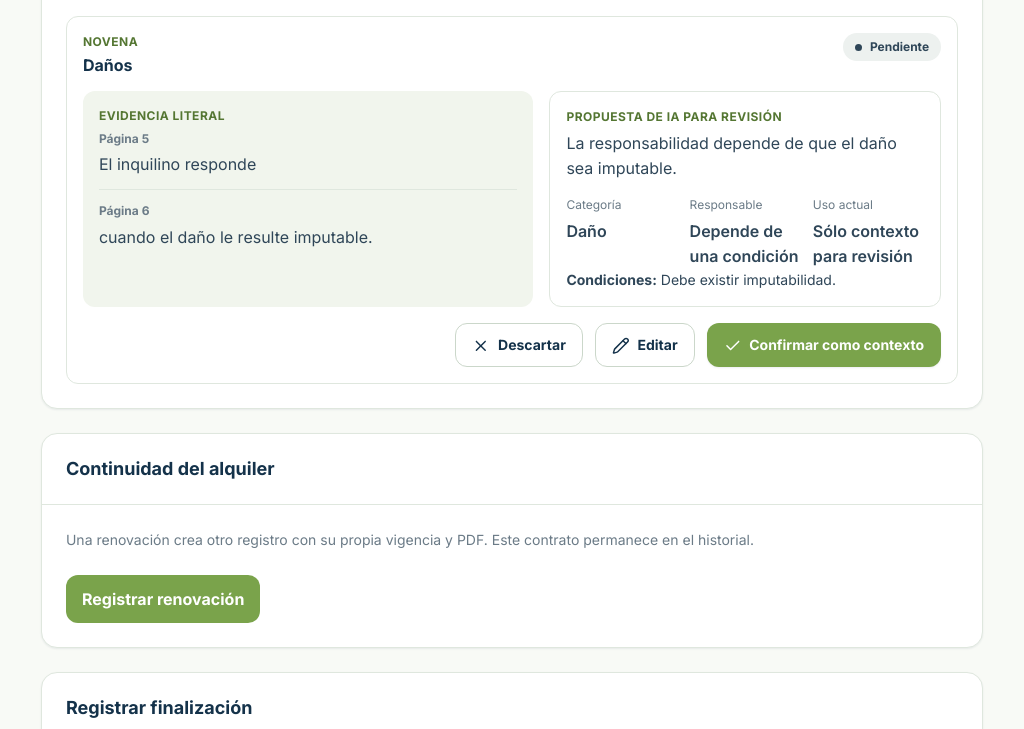
it: consulta y gestión de contratos › confirma una propuesta sólo como contexto, incluso si una versión anterior la marcó operativa
This screenshot has width=1024, height=729.
(page scrolled)
Click the button "Confirmar como contexto".
click(824, 345)  # box [707,323,941,367]
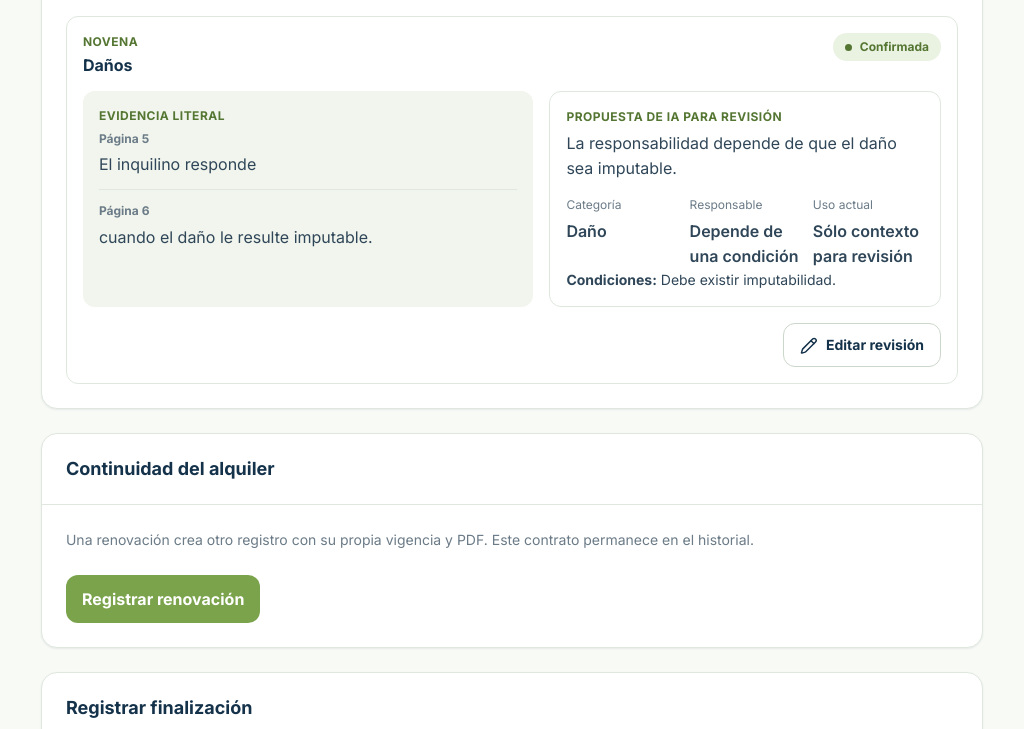
Now the text "Confirmada" is shown, box [833,34,941,62]
Now the button "Editar revisión" is shown, box [783,323,941,367]
